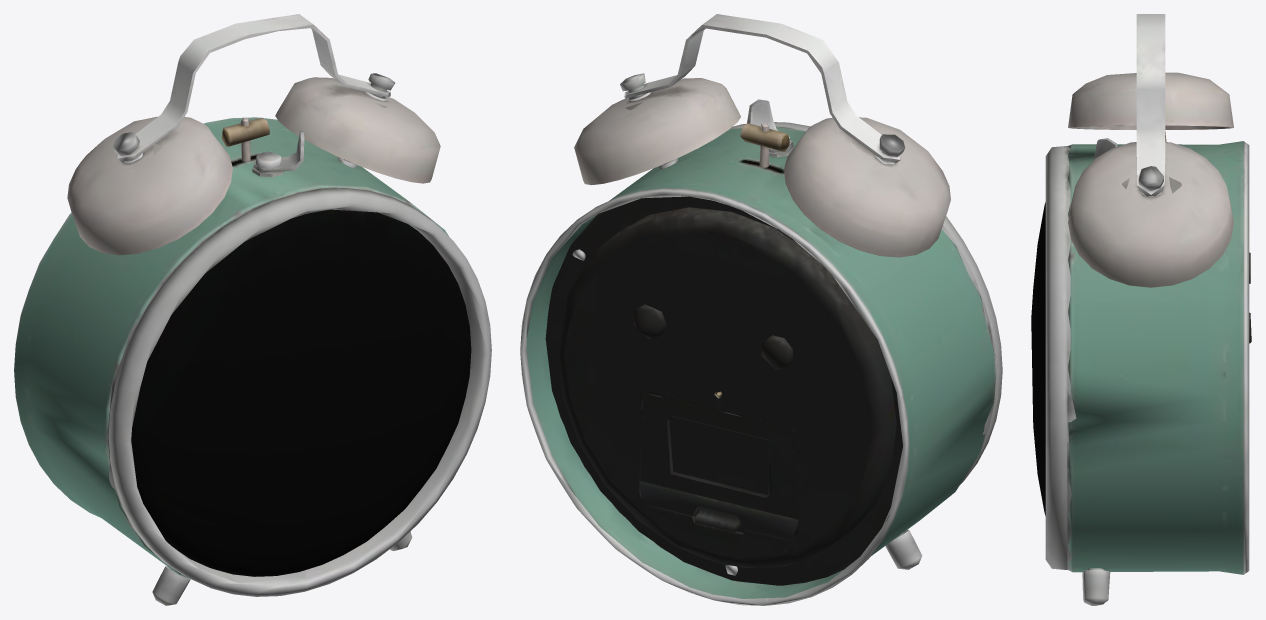
Rendered from alarm_clock.glb.
3 views of the same model, side by side, from view 1: azimuth 30°, elevation 25°; view 2: azimuth 150°, elevation 25°; view 3: azimuth 270°, elevation 25° (orthographic). The views are drawn at different scales.
Parts seen in each view (by area): view 1: alarm_clock; view 2: alarm_clock; view 3: alarm_clock.
Part boxes in pixels (bbox=[...]): alarm_clock: bbox=[14, 14, 491, 605]; alarm_clock: bbox=[520, 14, 1002, 605]; alarm_clock: bbox=[1031, 14, 1251, 605].
Size of the model in its own units: 0.1312 by 0.1738 by 0.0666.
Materials: 2 (2 with a texture image).
